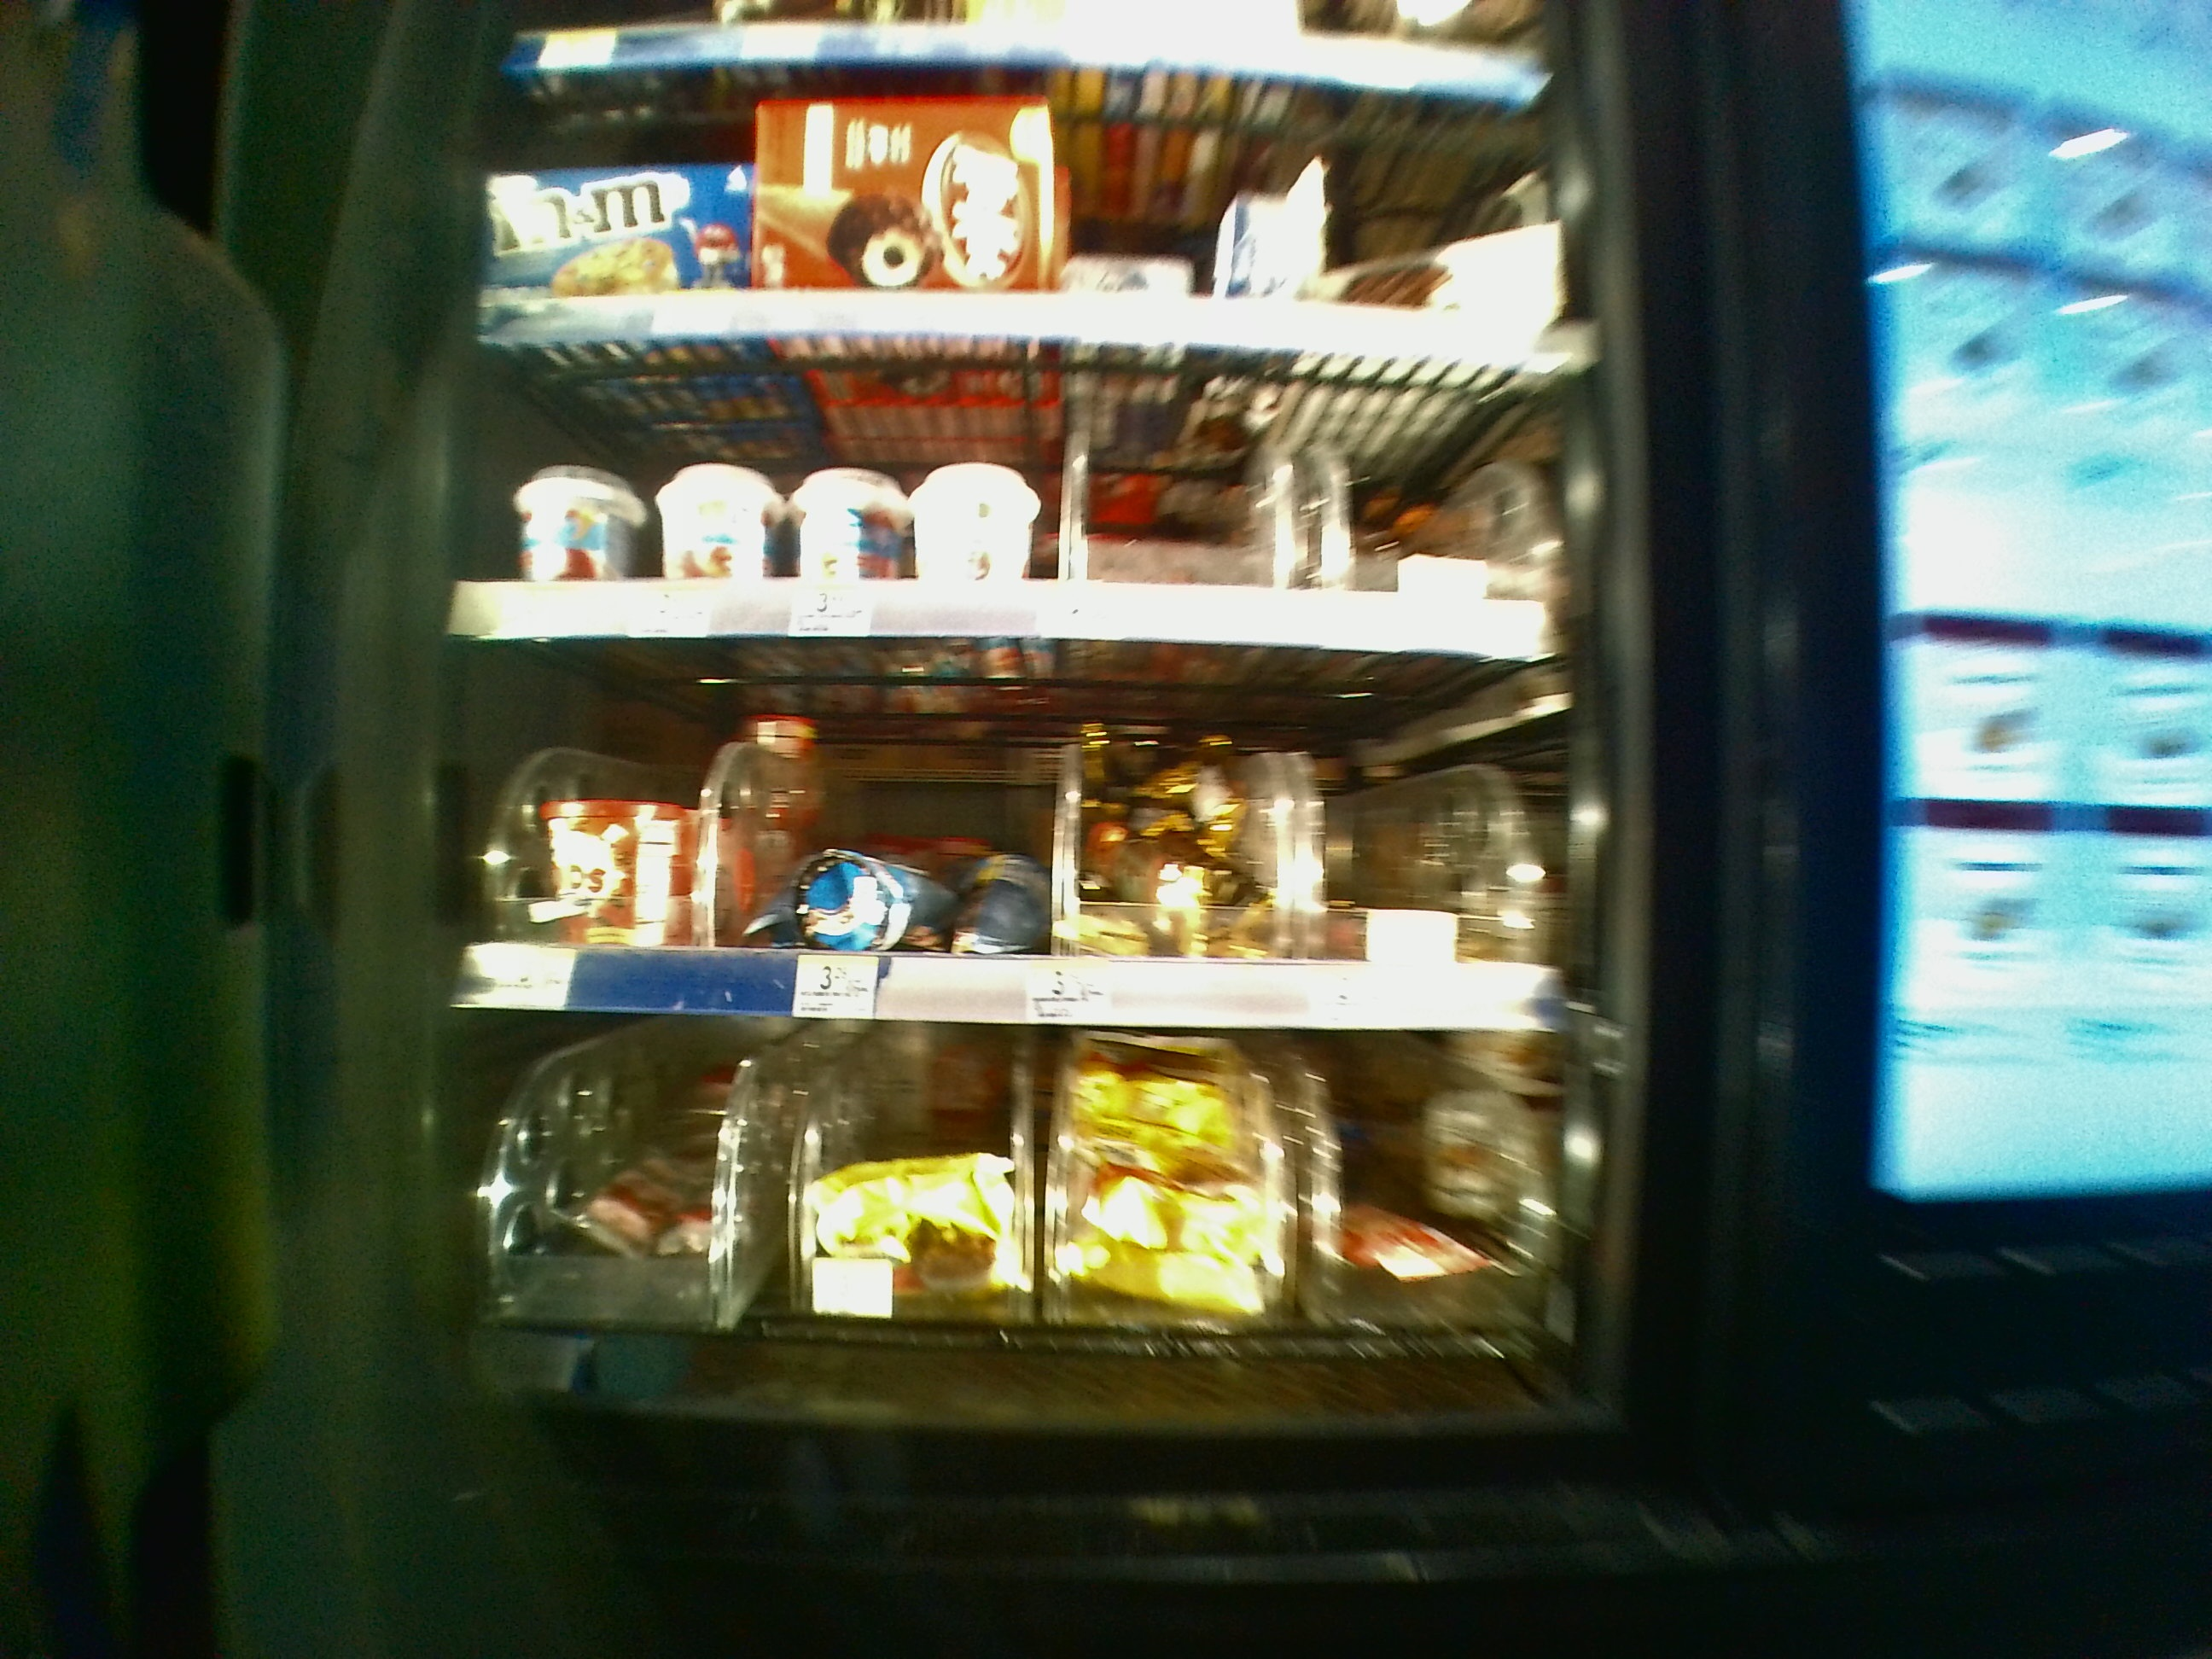shelf: (456, 1018, 1588, 1401), (465, 653, 1578, 1004), (456, 340, 1576, 647), (477, 78, 1578, 357)
